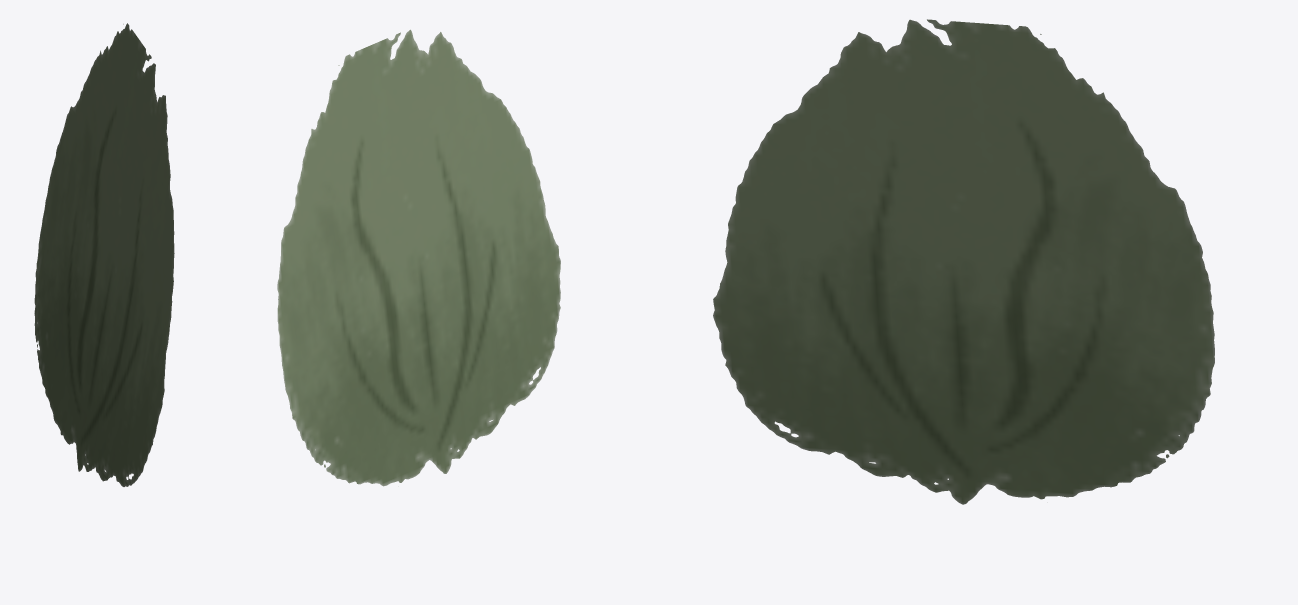
Rendered from tree4.fbx.
3 renders of one model, left to right at view 1: azimuth 30°, elevation 25°; view 2: azimuth 150°, elevation 25°; view 3: azimuth 270°, elevation 25°, orthographic. The views are drawn at different scales.
Parts seen in each view (by area): view 1: tree4; view 2: tree4; view 3: tree4.
Boxes of the visible parts, <box> form: tree4: <box>34,23,174,486</box>; tree4: <box>277,29,560,486</box>; tree4: <box>713,19,1214,504</box>.
Size of the model in its own units: 50.6 by 184 by 180.
